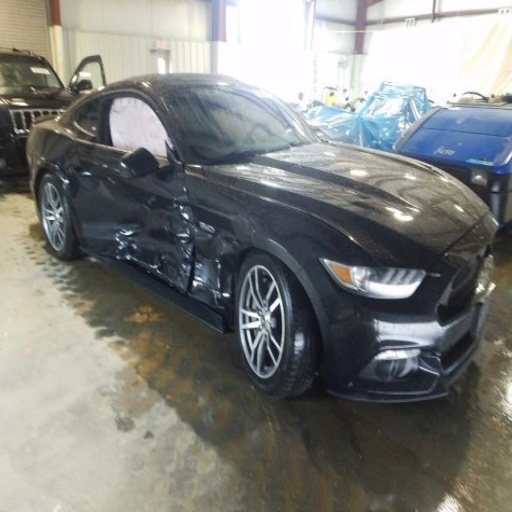dent: (68, 160, 254, 295)
scratch: (164, 185, 218, 290), (111, 225, 168, 275), (192, 239, 229, 306)
